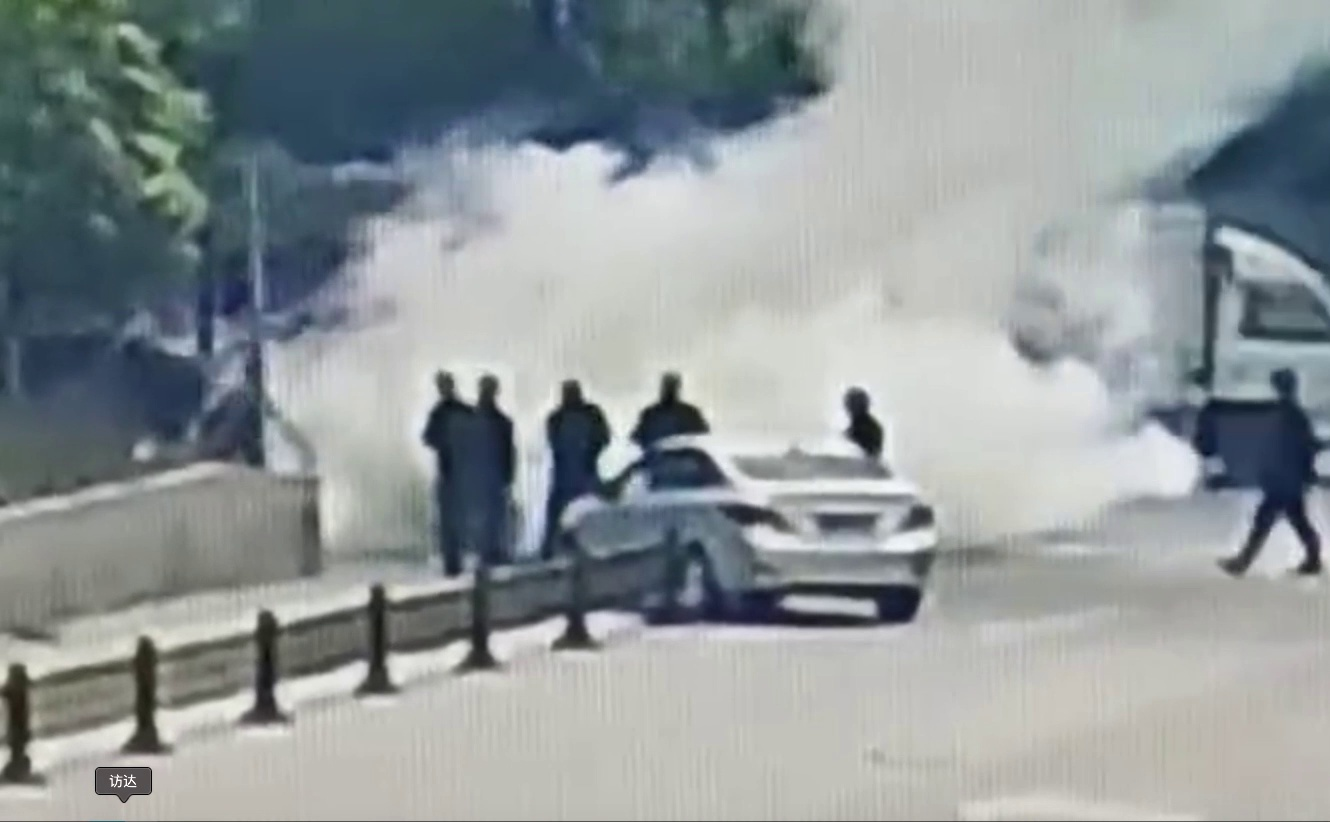smoke: (285, 34, 1185, 509)
